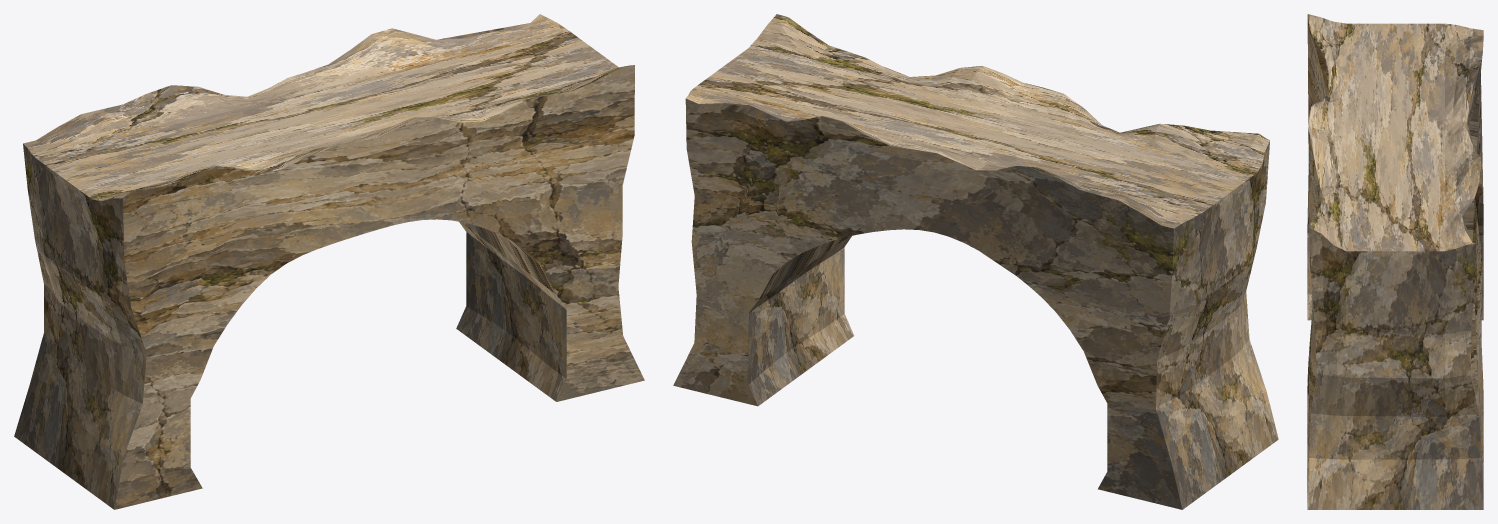
The model's file is large-author.obj.
3 renders of one model, left to right at view 1: azimuth 30°, elevation 25°; view 2: azimuth 150°, elevation 25°; view 3: azimuth 270°, elevation 25°, orthographic. The views are drawn at different scales.
Visible parts, largest first — view 1: large-author; view 2: large-author; view 3: large-author.
Part boxes in pixels (x1,y1,x2,y2): large-author: (14,14,644,509); large-author: (673,14,1278,509); large-author: (1307,14,1483,509).
Size of the model in its own units: 12 by 6.86 by 3.93.
Materials: 1 (1 with a texture image).
